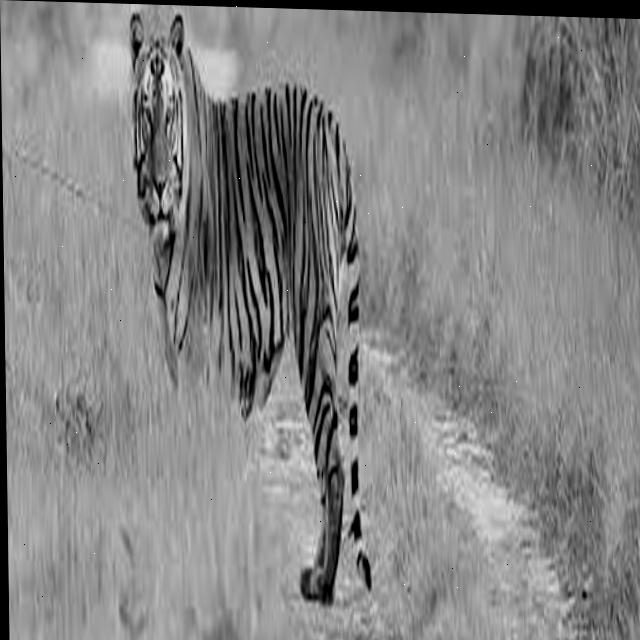Tiger: (125, 7, 374, 607)
